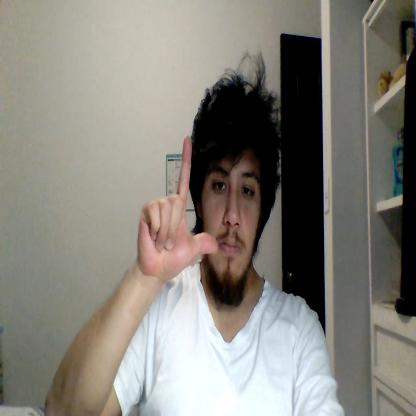L: (137, 135, 218, 277)
